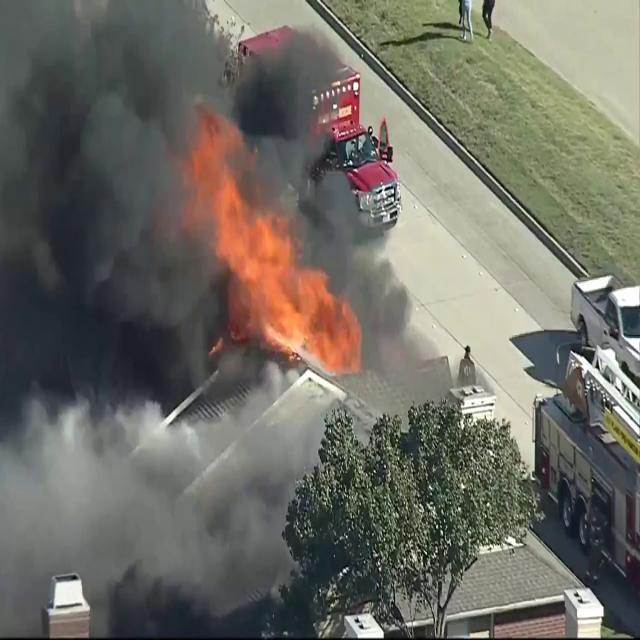Fire: (191, 138, 363, 378)
Smoke: (0, 1, 228, 414), (0, 384, 306, 627)
